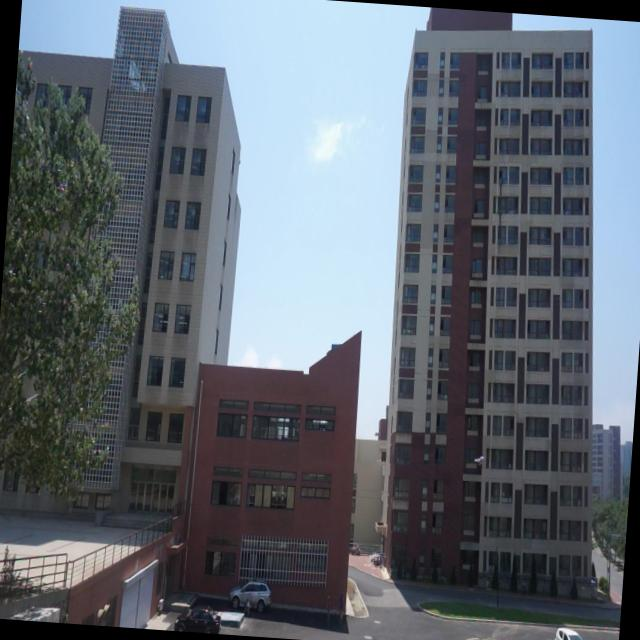drone: (472, 448, 487, 468)
